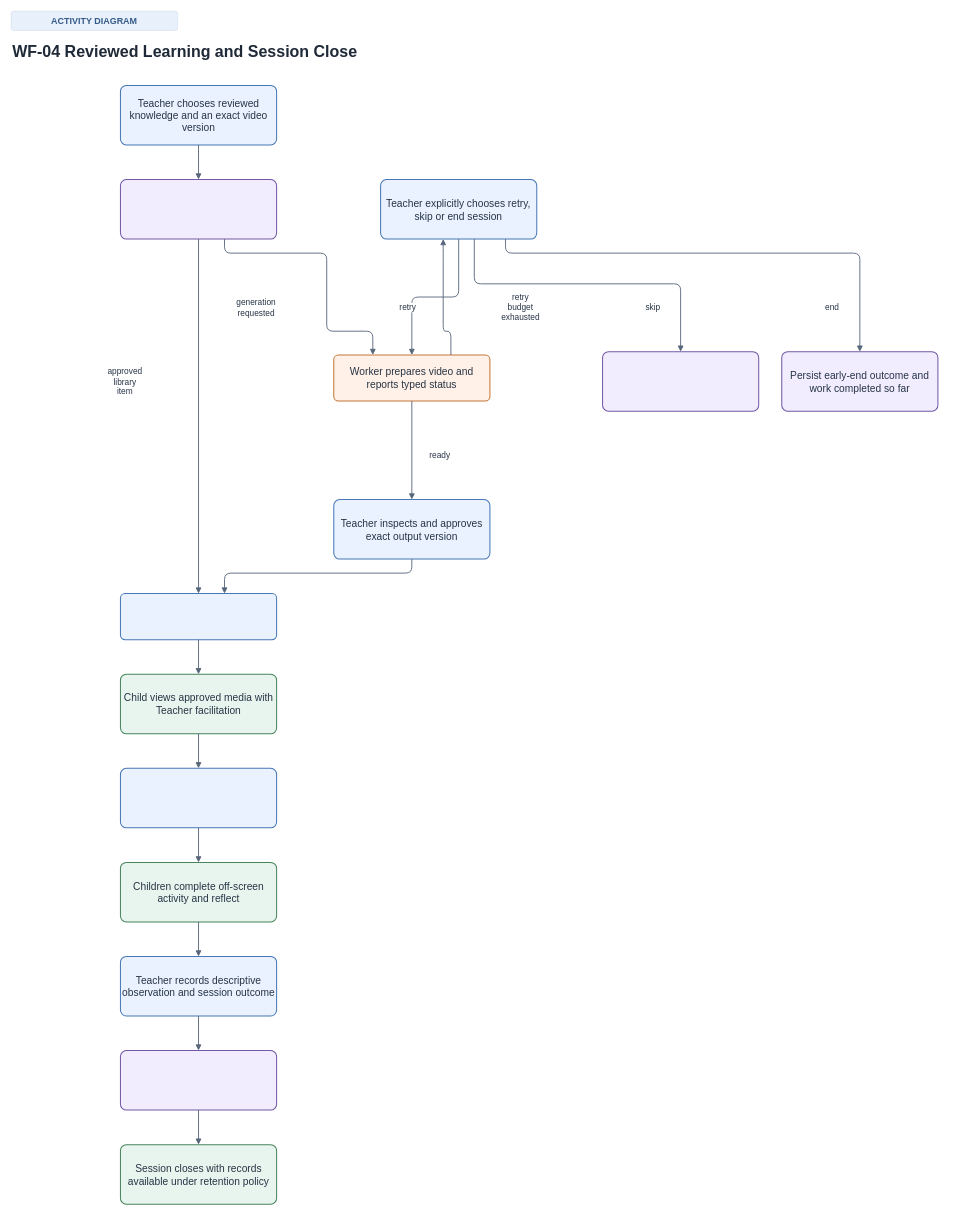
This 964x1216 diagram has some shape labels left out. The shapes that lost their labels are listed below. From the top down, each one's centre as x and y in pixels, then its label:
At point (198, 209): "Backend checks source, audience, version and review status".
At point (680, 381): "Record skip disposition; do not mark video played".
At point (198, 616): "Teacher reviews exact item and starts playback".
At point (198, 797): "Teacher assigns a reviewed class or group activity".
At point (198, 1080): "Persist outcome and provenance; complete only after durable save".
